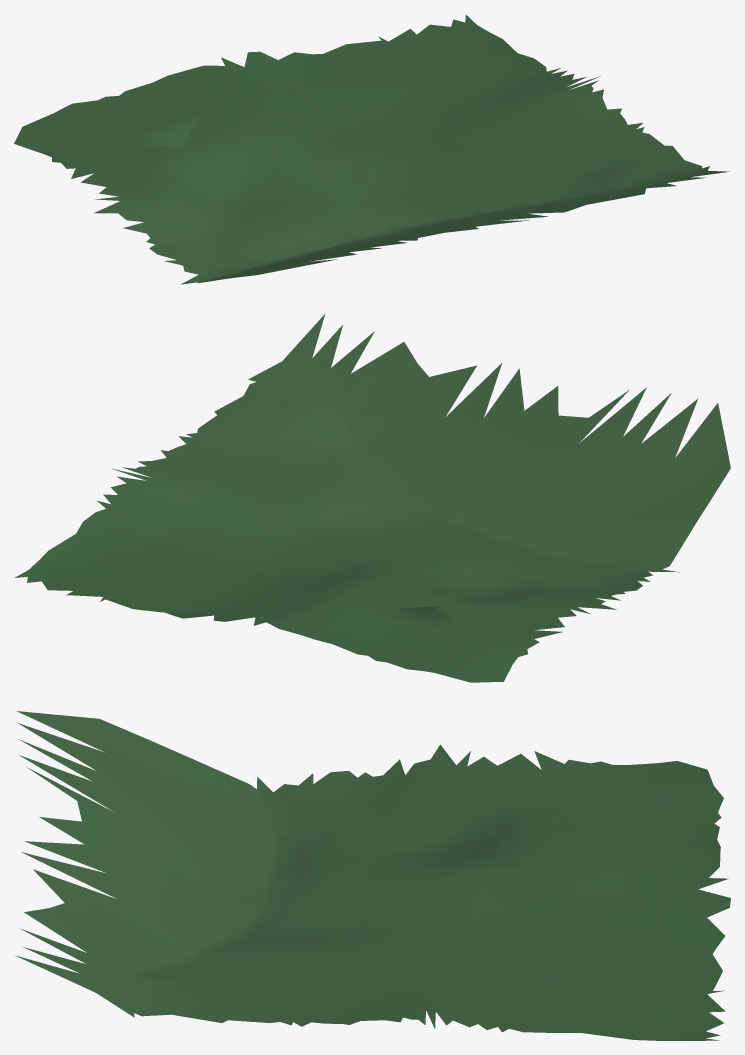
Rendered from payo_land_xm1_y9_lod1.glb.
3 views of the same model, one above another, from view 1: azimuth 30°, elevation 25°; view 2: azimuth 150°, elevation 25°; view 3: azimuth 270°, elevation 25° (orthographic). The views are drawn at different scales.
Parts seen in each view (by area): view 1: payo_land_xm1_y9; view 2: payo_land_xm1_y9; view 3: payo_land_xm1_y9.
Part boxes in pixels (box(x1,y1,x2,y2)): payo_land_xm1_y9: box(14, 15, 729, 284); payo_land_xm1_y9: box(15, 314, 730, 682); payo_land_xm1_y9: box(15, 711, 730, 1040).
Bounding box in the file's own units: 282 × 47.35 × 280.
